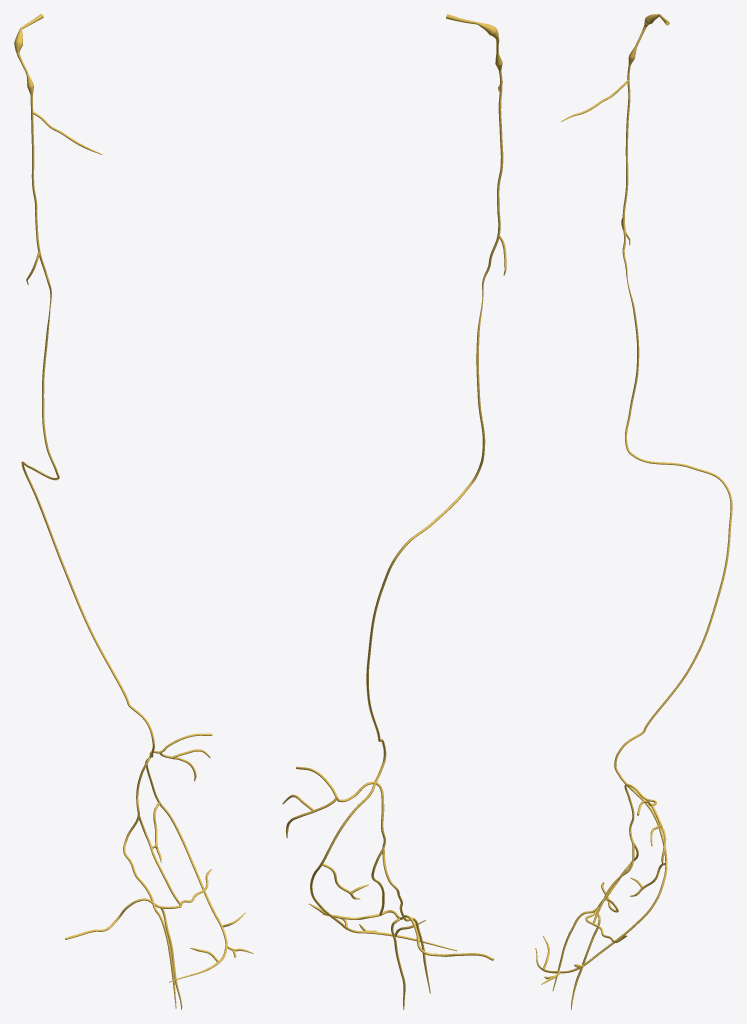
File: Vagus_nerve_X_right.glb
3 views of the same model, side by side, from view 1: azimuth 30°, elevation 25°; view 2: azimuth 150°, elevation 25°; view 3: azimuth 270°, elevation 25° (orthographic). The views are drawn at different scales.
Parts seen in each view (by area): view 1: Vagus_nerve_(X).r_BezierCurve.305; view 2: Vagus_nerve_(X).r_BezierCurve.305; view 3: Vagus_nerve_(X).r_BezierCurve.305.
Boxes of the visible parts, x1,y1,x2,y2 form: Vagus_nerve_(X).r_BezierCurve.305: (14,14,253,1009); Vagus_nerve_(X).r_BezierCurve.305: (282,14,506,1009); Vagus_nerve_(X).r_BezierCurve.305: (535,14,732,1009).
Bounding box in the file's own units: 0.0988 × 0.4688 × 0.0886.
